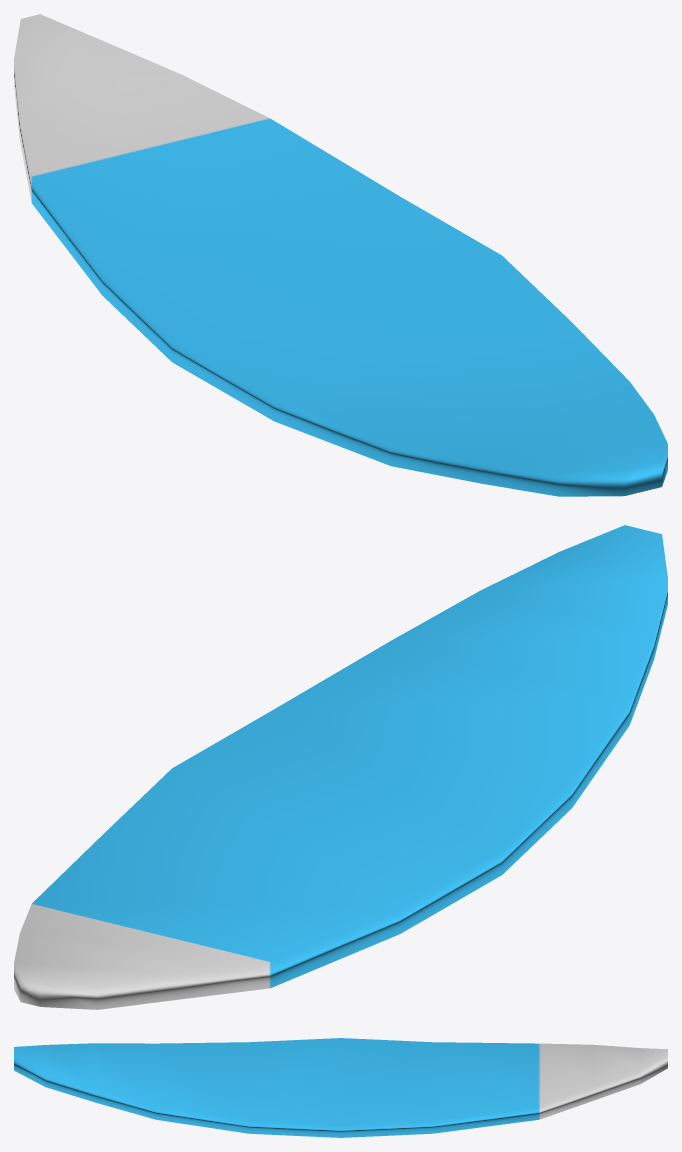
Rendered from Surfboard.fbx.
3 views of the same model, one above another, from view 1: azimuth 30°, elevation 25°; view 2: azimuth 150°, elevation 25°; view 3: azimuth 270°, elevation 25° (orthographic). The views are drawn at different scales.
Parts seen in each view (by area): view 1: Cube; view 2: Cube; view 3: Cube.
Part boxes in pixels (x1=…): Cube: x1=14, y1=14, x2=667, y2=496; Cube: x1=14, y1=525, x2=667, y2=1009; Cube: x1=14, y1=1038, x2=667, y2=1137.
Size of the model in its own units: 248 by 58.29 by 799.
Materials: 1 (1 with a texture image).
